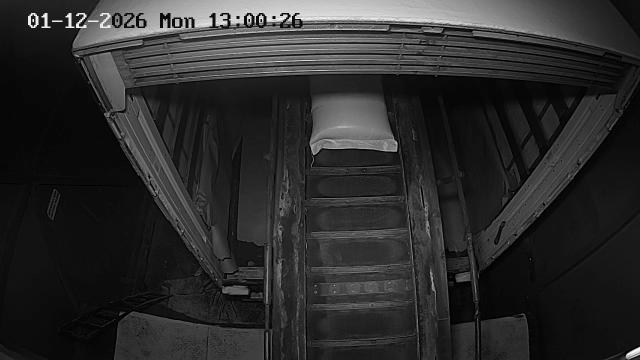bag: (309, 75, 396, 155)
